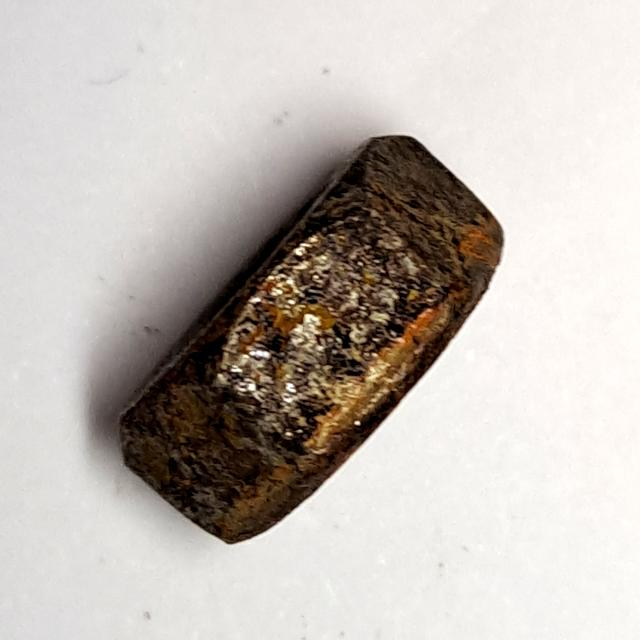Side_Rust: (102, 124, 522, 555)
